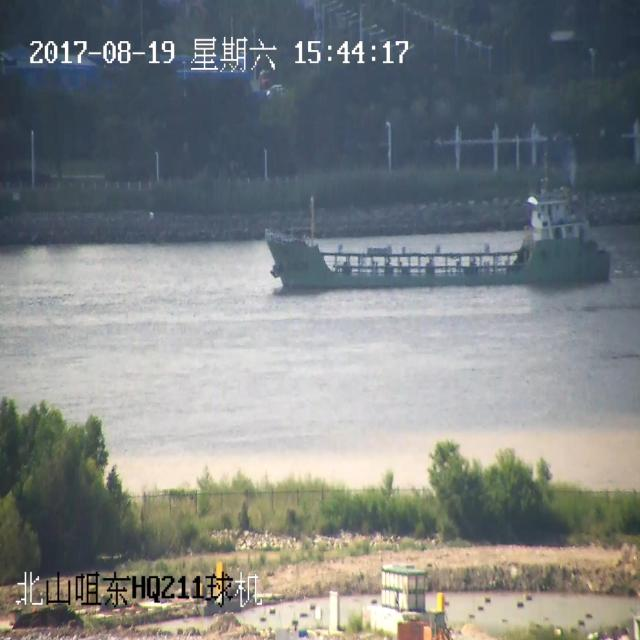houseboat: (239, 176, 610, 289)
